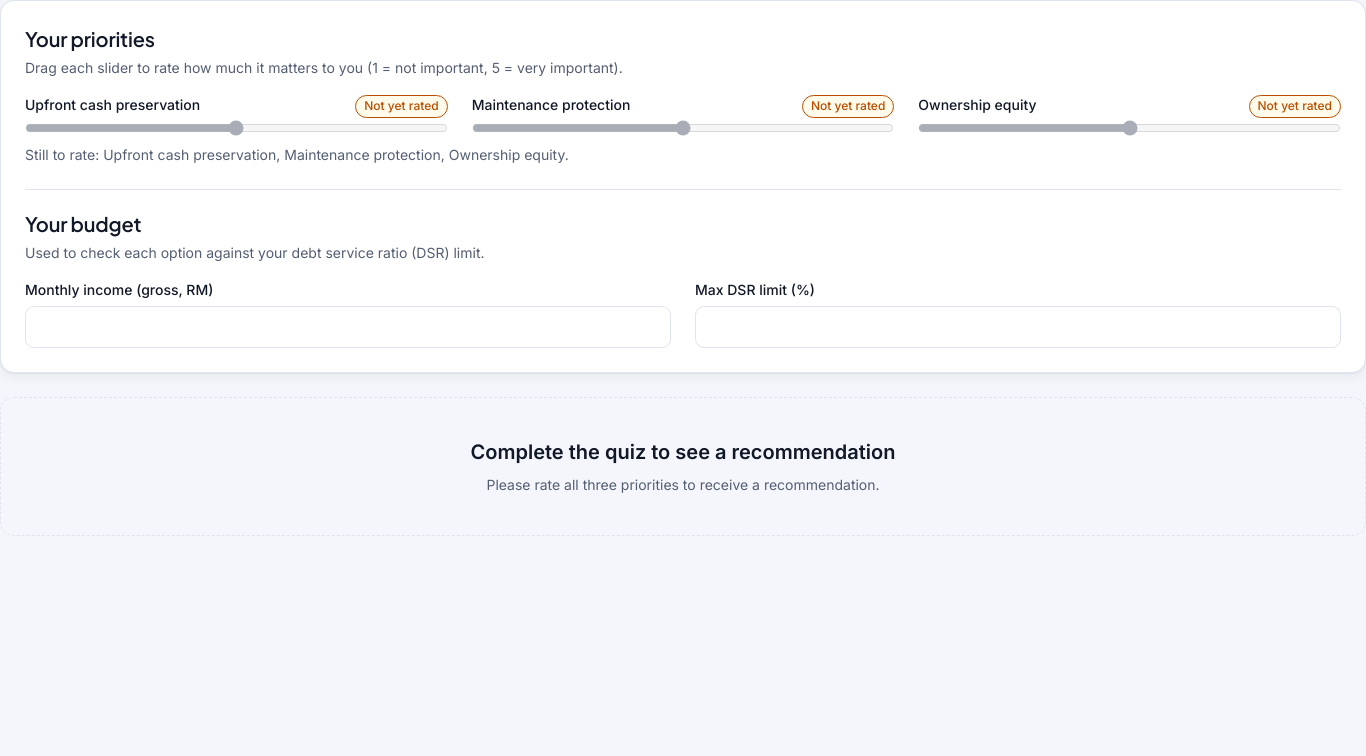
Test case: RecommendationPanel › fetches a recommendation once the quiz and income/DSR are all filled in
Set the slider labelled "Upfront cash preservation" to "5" at (440, 128), box x1=25 y1=124 x2=448 y2=132
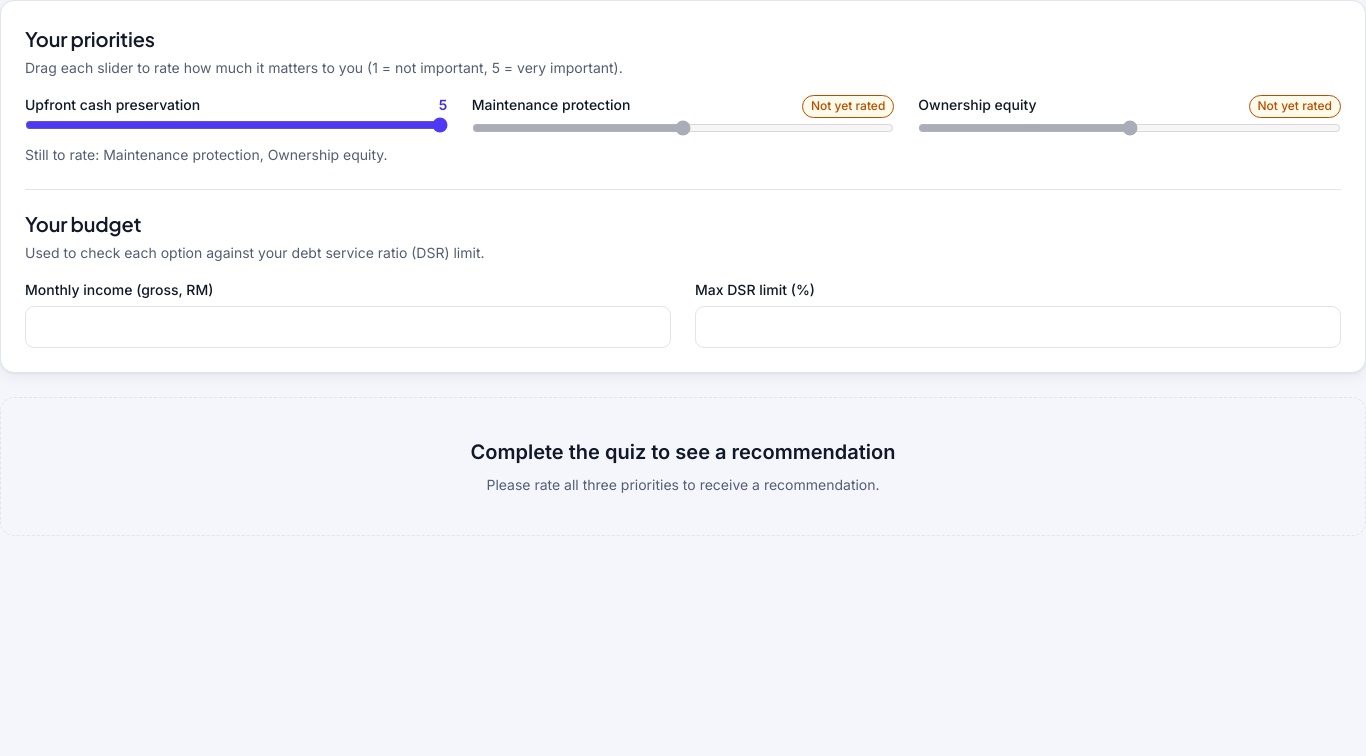
Set the slider labelled "Maintenance protection" to "2" at (581, 128), box x1=472 y1=124 x2=894 y2=132
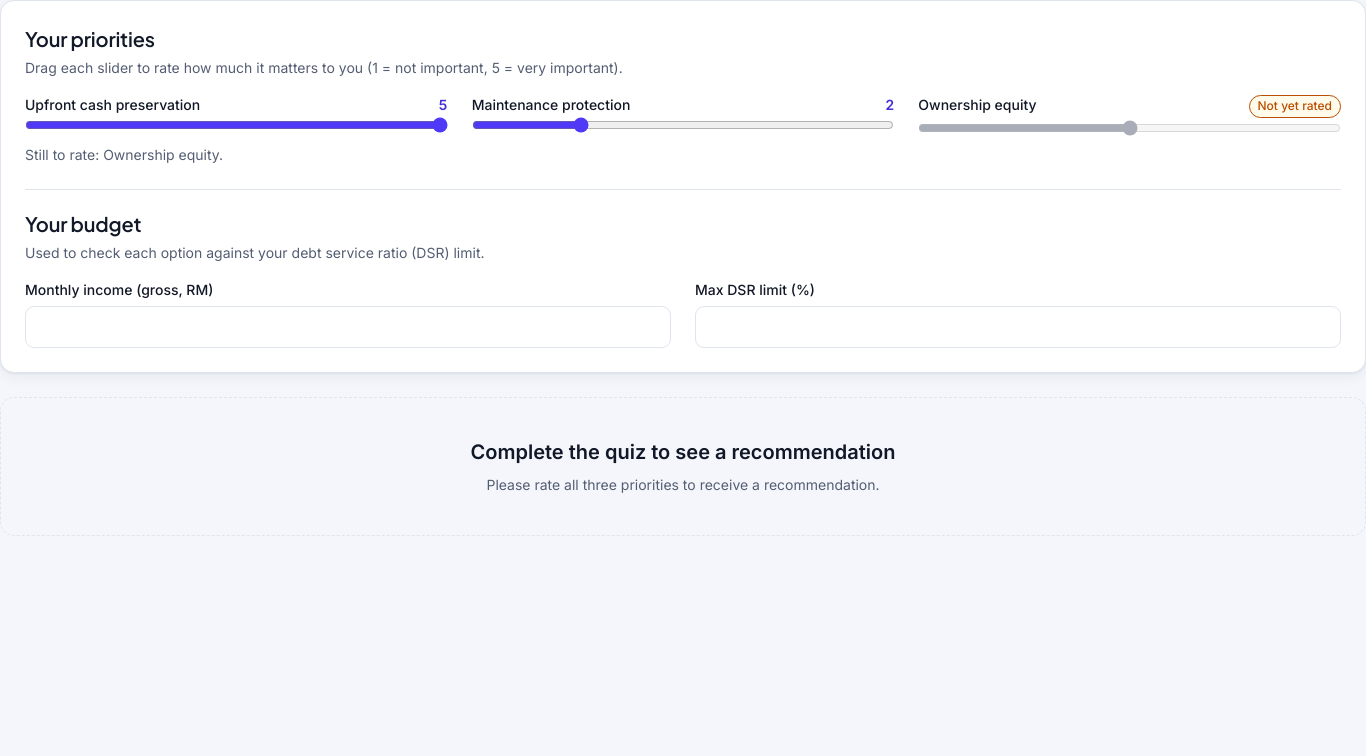
Set the slider labelled "Ownership equity" to "1" at (926, 128), box x1=918 y1=124 x2=1341 y2=132
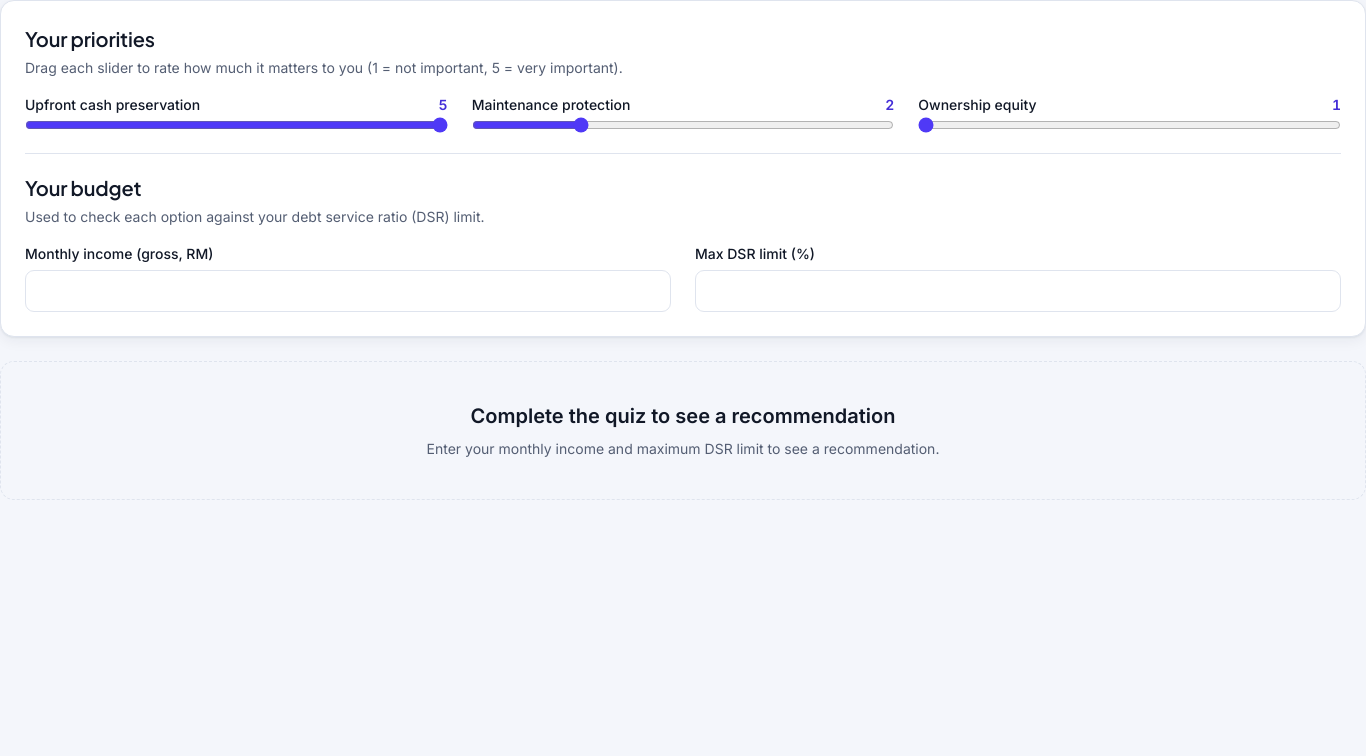
Type "8000" into the number field labelled "Monthly income (gross, RM)" at (348, 291), box x1=25 y1=270 x2=671 y2=312
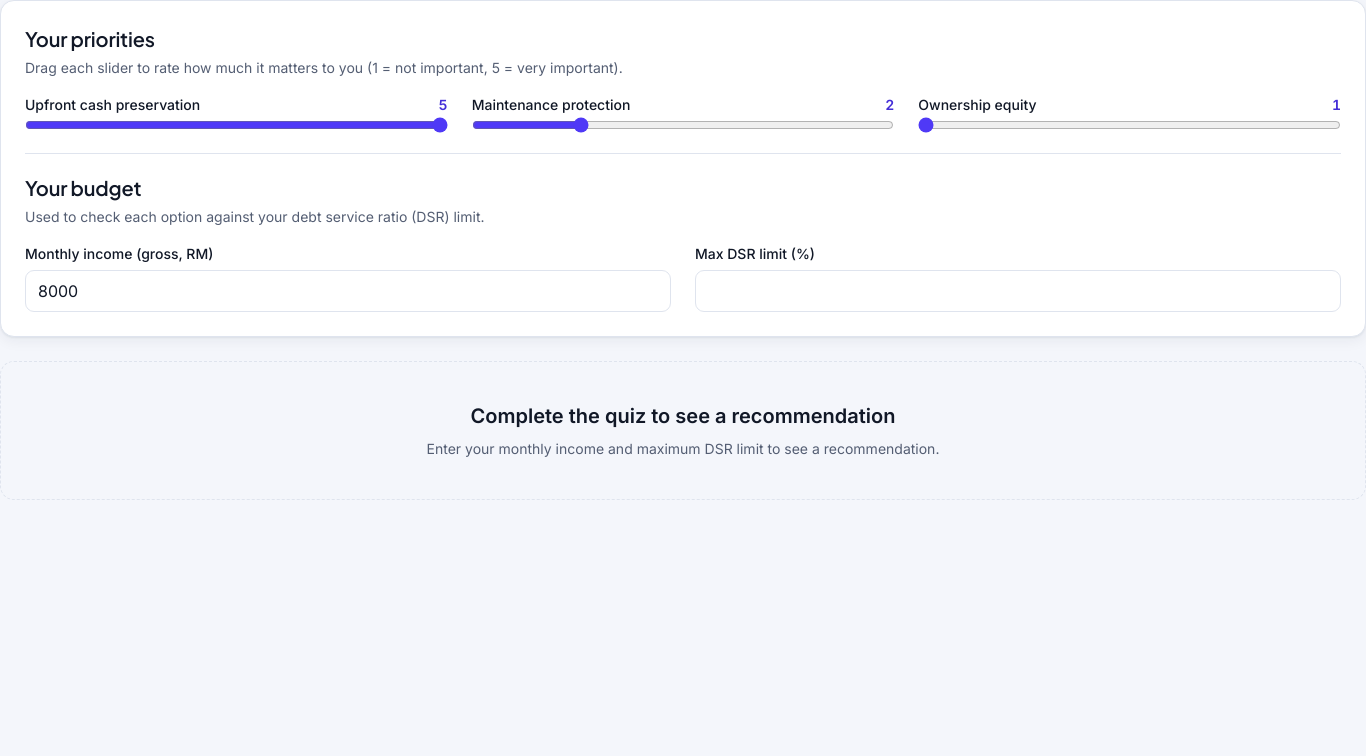
Type "60" into the number field labelled "Max DSR limit (%)" at (1018, 291), box x1=695 y1=270 x2=1341 y2=312
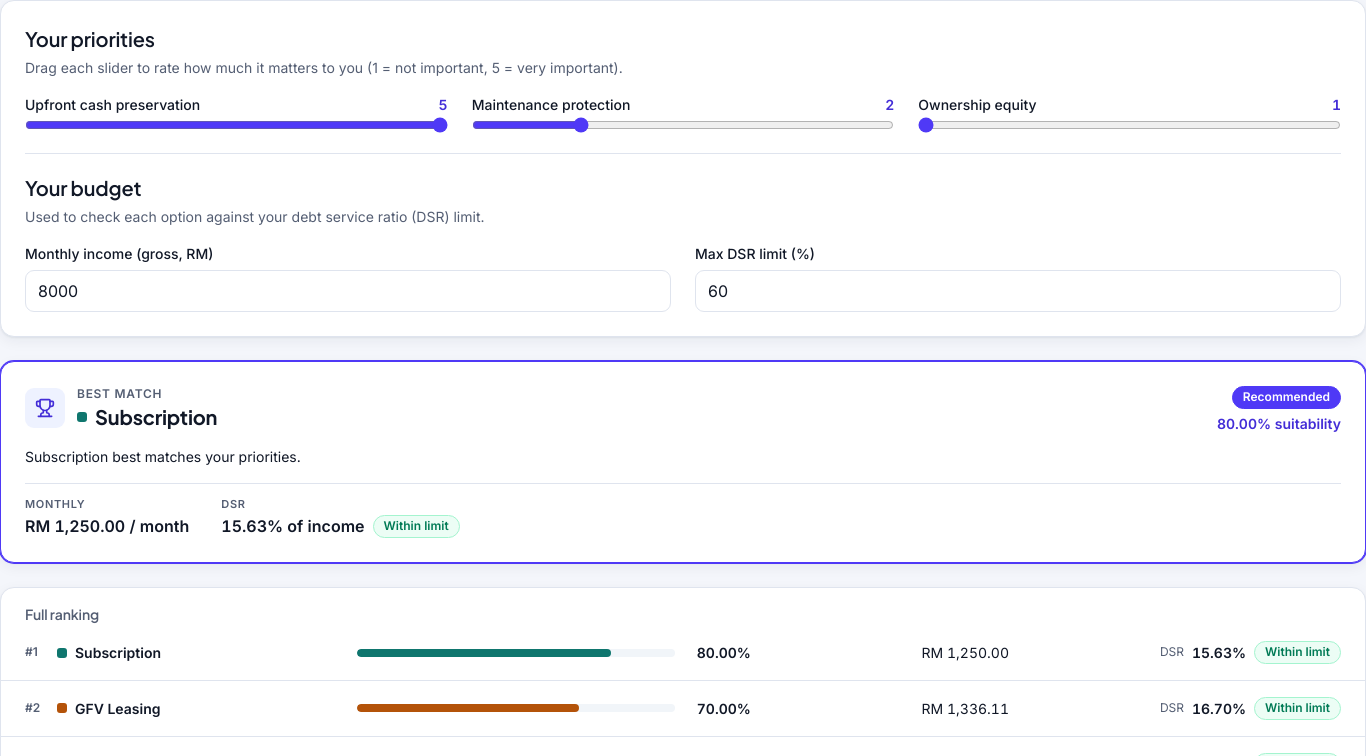
Result: the text "Subscription best matches your priorities." is shown at x1=25 y1=448 x2=301 y2=465
